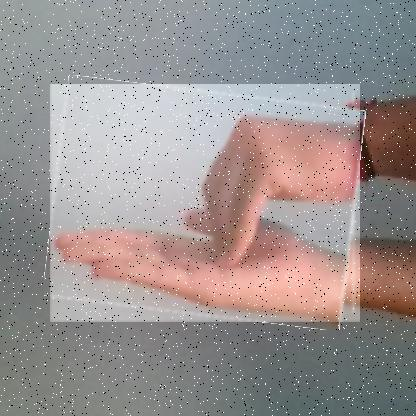Z: (49, 84, 360, 323)
